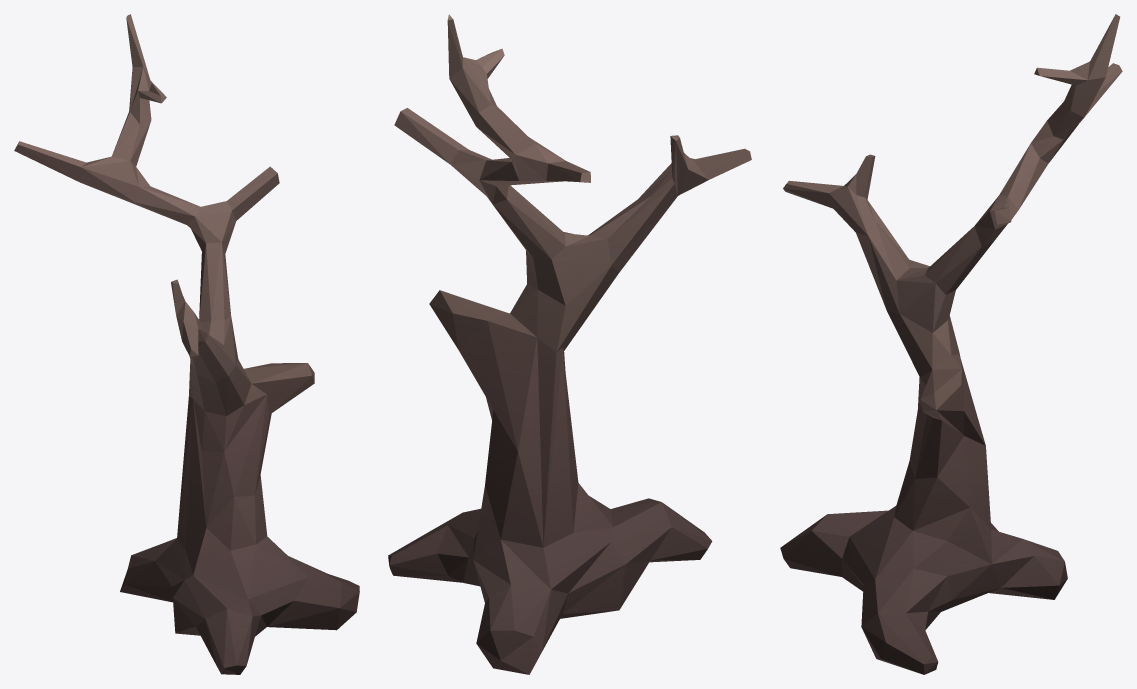
File: tree2.glb
3 views of the same model, side by side, from view 1: azimuth 30°, elevation 25°; view 2: azimuth 150°, elevation 25°; view 3: azimuth 270°, elevation 25° (orthographic). The views are drawn at different scales.
Visible parts, largest first — view 1: tree2; view 2: tree2; view 3: tree2.
Boxes of the visible parts, box(x1,y1,x2,y2) form: tree2: box(14, 14, 359, 674); tree2: box(388, 14, 751, 674); tree2: box(780, 14, 1122, 674).
Size of the model in its own units: 2.14 by 4.47 by 2.33.
Materials: 1 (1 with a texture image).
